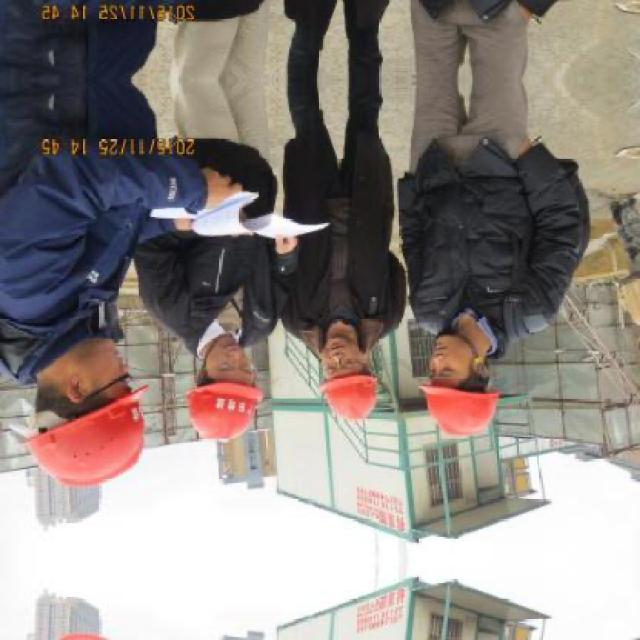con casco: (24, 278, 158, 493), (397, 316, 524, 445), (174, 311, 287, 444), (295, 290, 389, 424)
